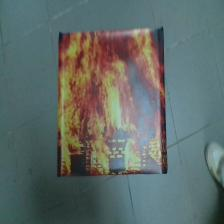fire-poster: (58, 28, 167, 176)
